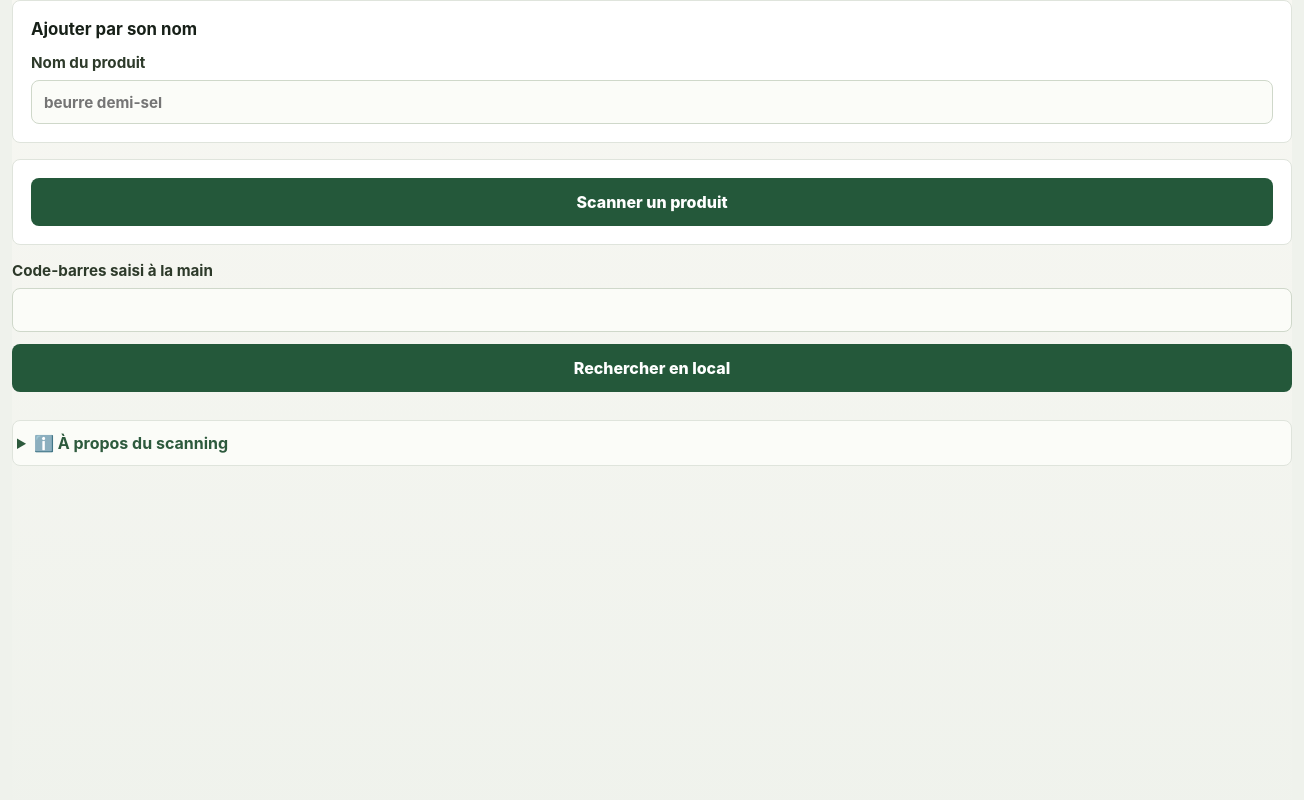
Test: ScanPage — ajout direct au scan (sans confirmation) › ajoute directement un produit déjà connu en local, sans bouton de confirmation
The image size is (1304, 800).
Type "3012345678907" into the field labelled "Code-barres saisi à la main" at (652, 310), box left=12, top=288, right=1292, bottom=332
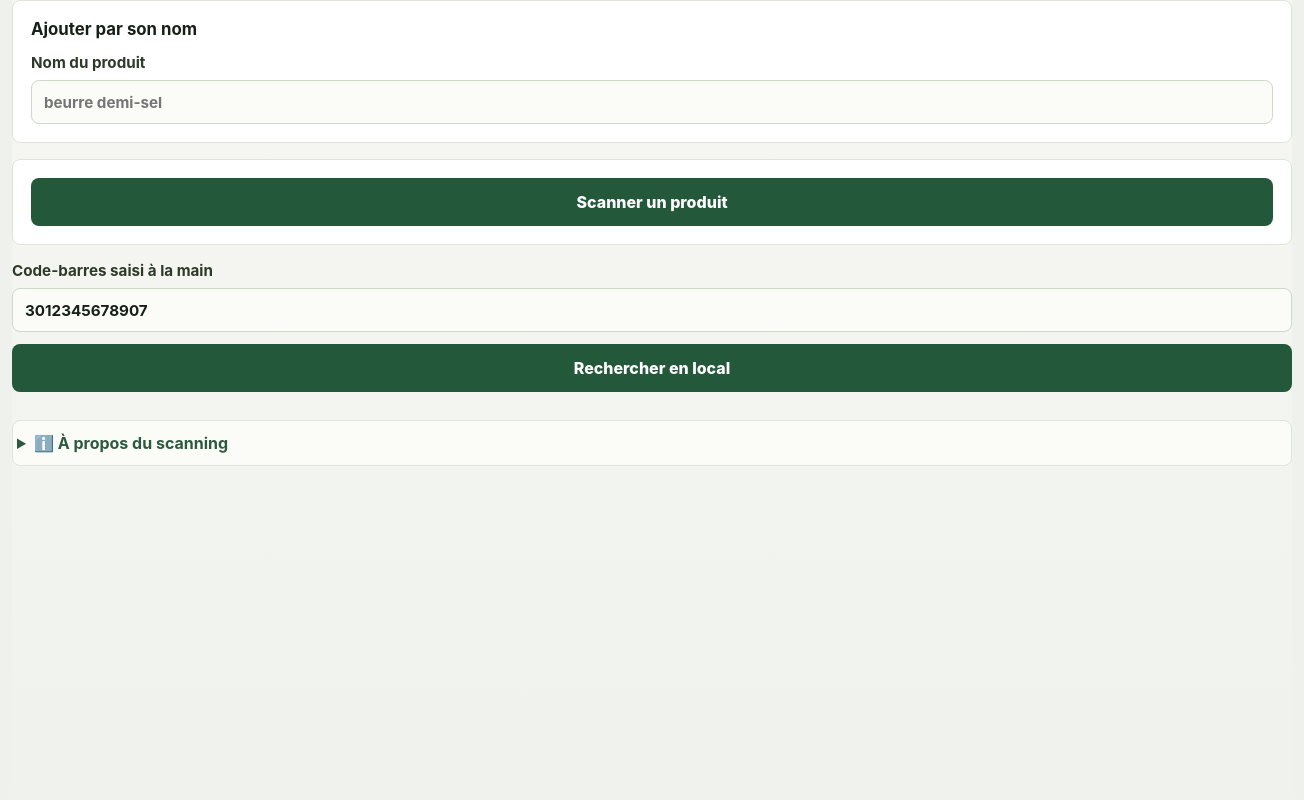
Click the button "Rechercher en local" at (652, 368), box left=12, top=344, right=1292, bottom=392
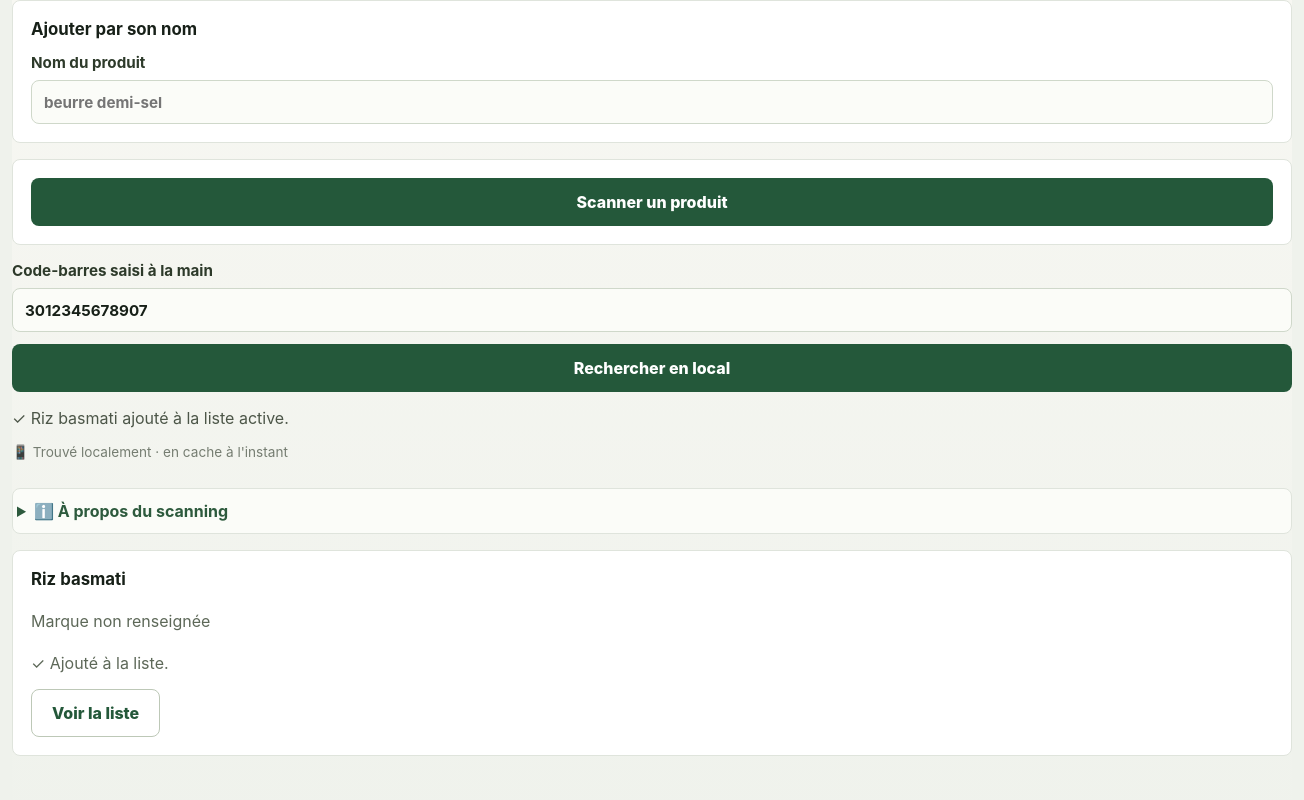
Now the text "✓ Riz basmati ajouté à la liste active." is shown, box left=12, top=408, right=289, bottom=428
